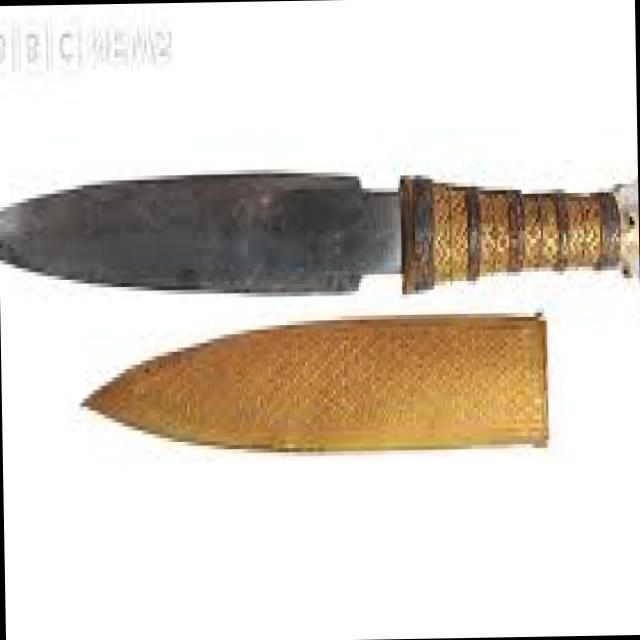Gun: (0, 97, 640, 334)
